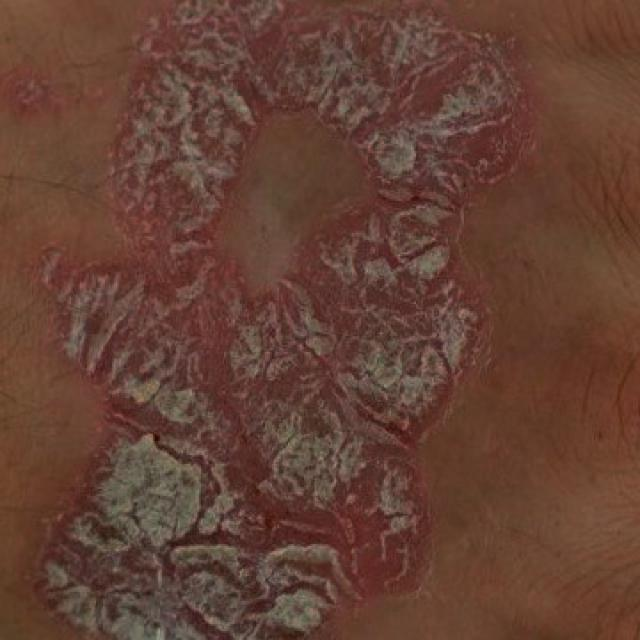Psoriasis: (1, 0, 548, 638)
